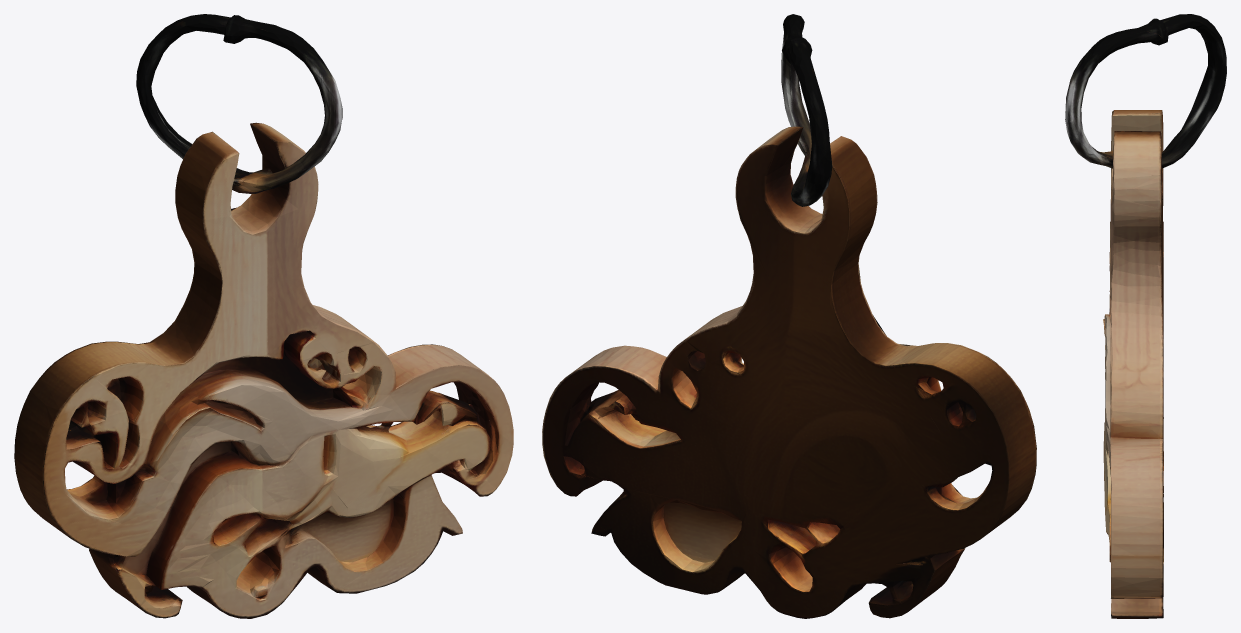
Rendered from wooden-keychain-3d.jpeg.glb.
3 renders of one model, left to right at view 1: azimuth 30°, elevation 25°; view 2: azimuth 150°, elevation 25°; view 3: azimuth 270°, elevation 25°, orthographic. The views are drawn at different scales.
Parts seen in each view (by area): view 1: world; view 2: world; view 3: world.
Boxes of the visible parts, bbox=[...] form: world: bbox=[14, 14, 513, 618]; world: bbox=[542, 14, 1036, 618]; world: bbox=[1065, 14, 1226, 618].
Bounding box in the file's own units: 0.8472 × 1 × 0.2735.
1 material, 1 textured.
